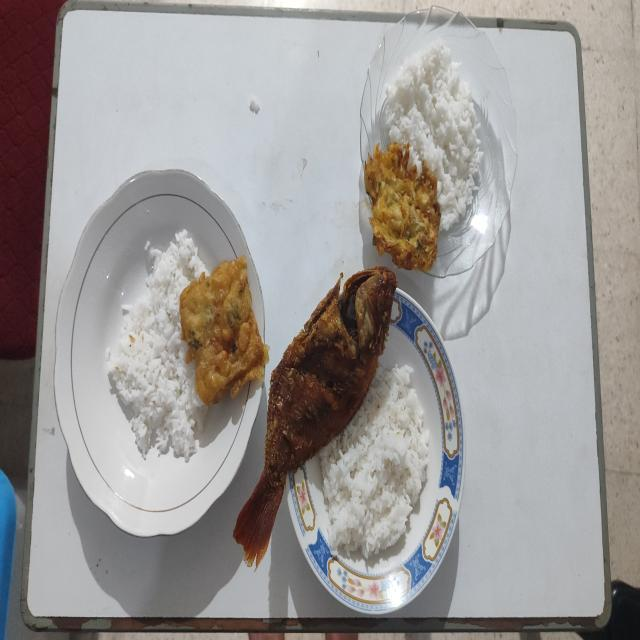ikan_mujair: (234, 266, 396, 564)
nasi_putih: (106, 230, 206, 460), (319, 364, 429, 558), (386, 41, 480, 230)
